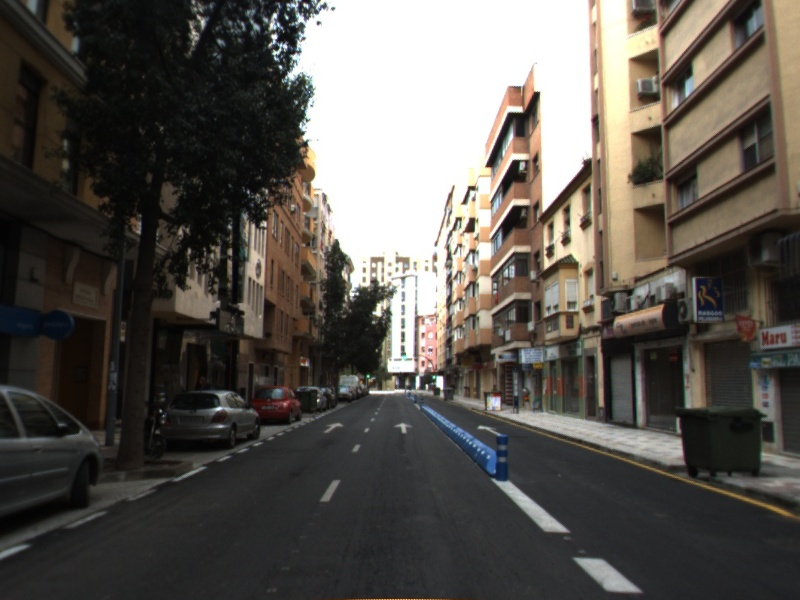STRAIGHT: (476, 423, 503, 437), (321, 421, 345, 434), (393, 421, 414, 435)
